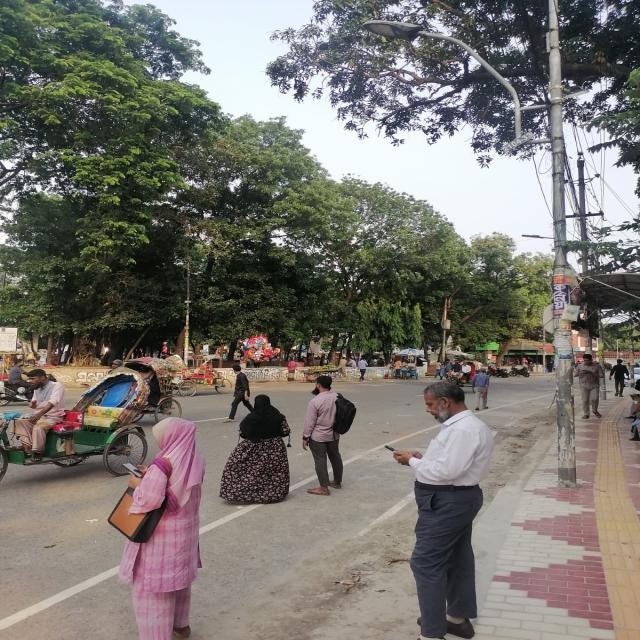person: (224, 364, 254, 423)
